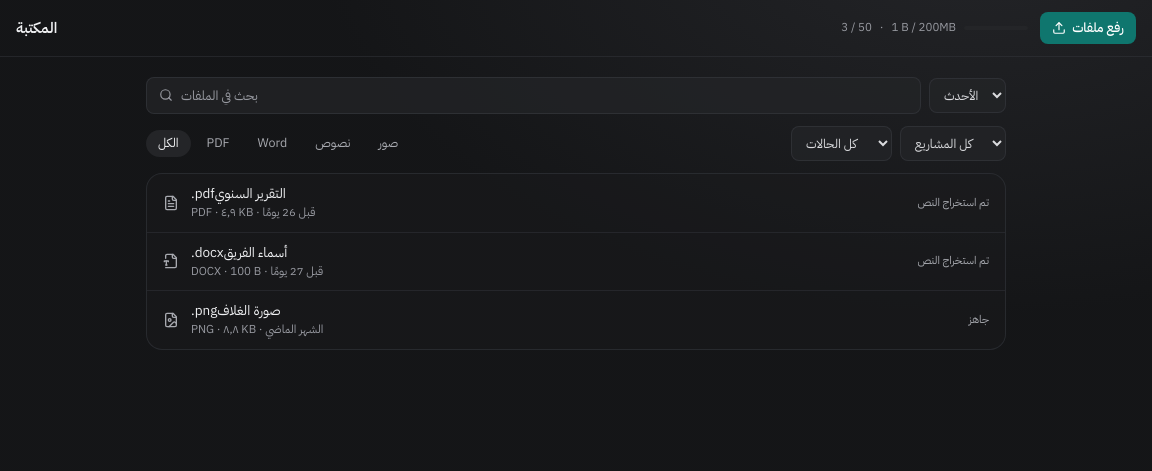
المكتبة: الإجراءات › فشل الحذف ⇒ تنبيه، والملف باقٍ في القائمة
Click the button "أسماء الفريق.docx DOCX · 100 B · قبل 27 يومًا" at (255, 252), box [163, 232, 905, 290]
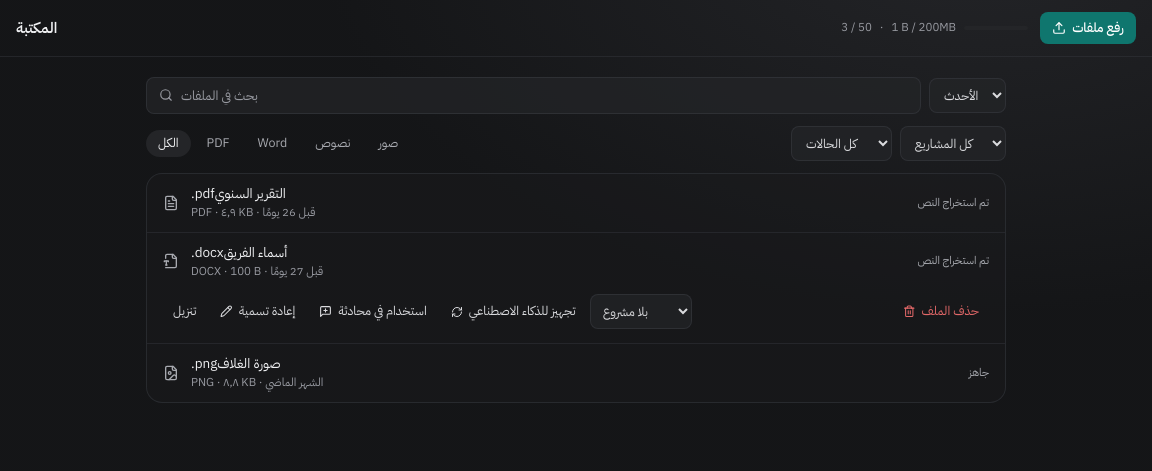
Click the button "حذف الملف" at (941, 312), box [893, 296, 989, 327]
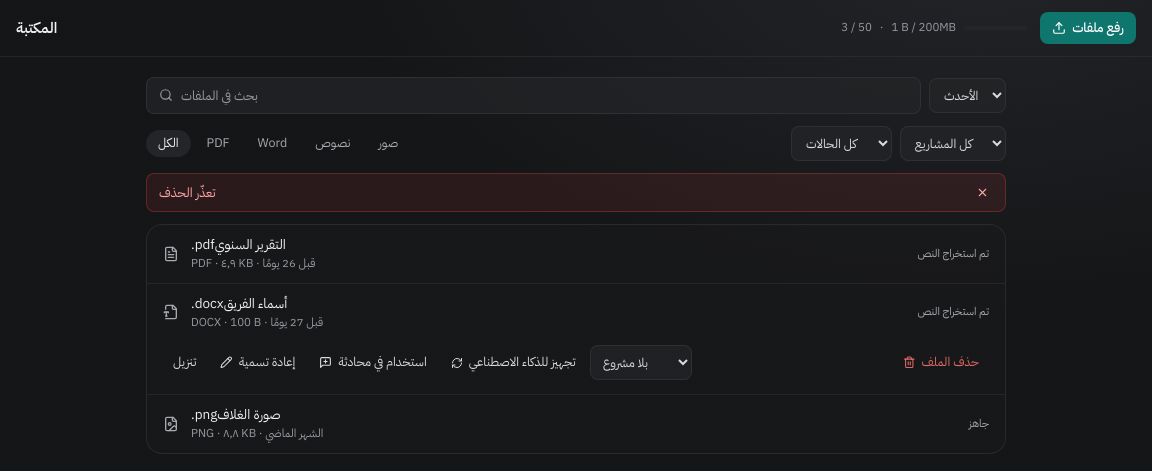
Result: the message reads "تعذّر الحذف" at [159, 183, 216, 202]
